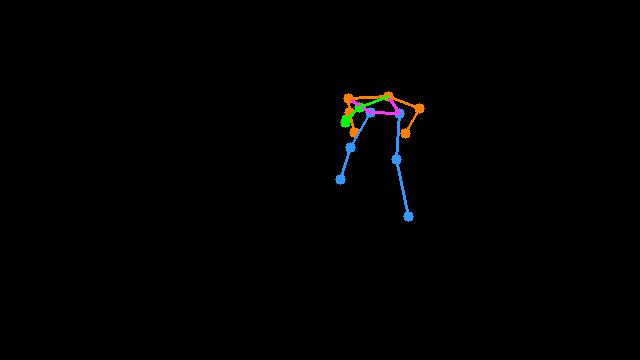normal: (316, 66, 434, 233)
